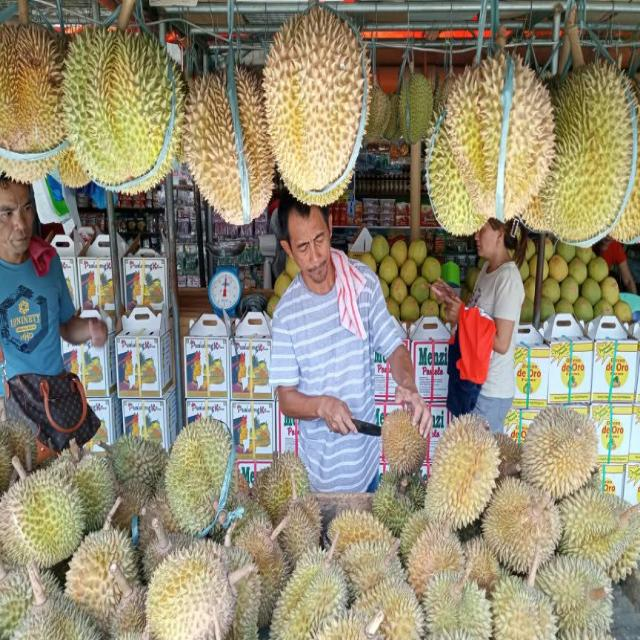mature: (260, 6, 370, 203), (59, 31, 184, 194), (444, 52, 557, 221), (180, 66, 288, 229), (540, 64, 633, 241), (1, 464, 89, 572), (144, 540, 238, 640), (426, 415, 503, 532), (520, 404, 612, 498), (167, 416, 236, 540), (480, 473, 561, 572), (266, 544, 348, 640), (372, 402, 430, 482)
